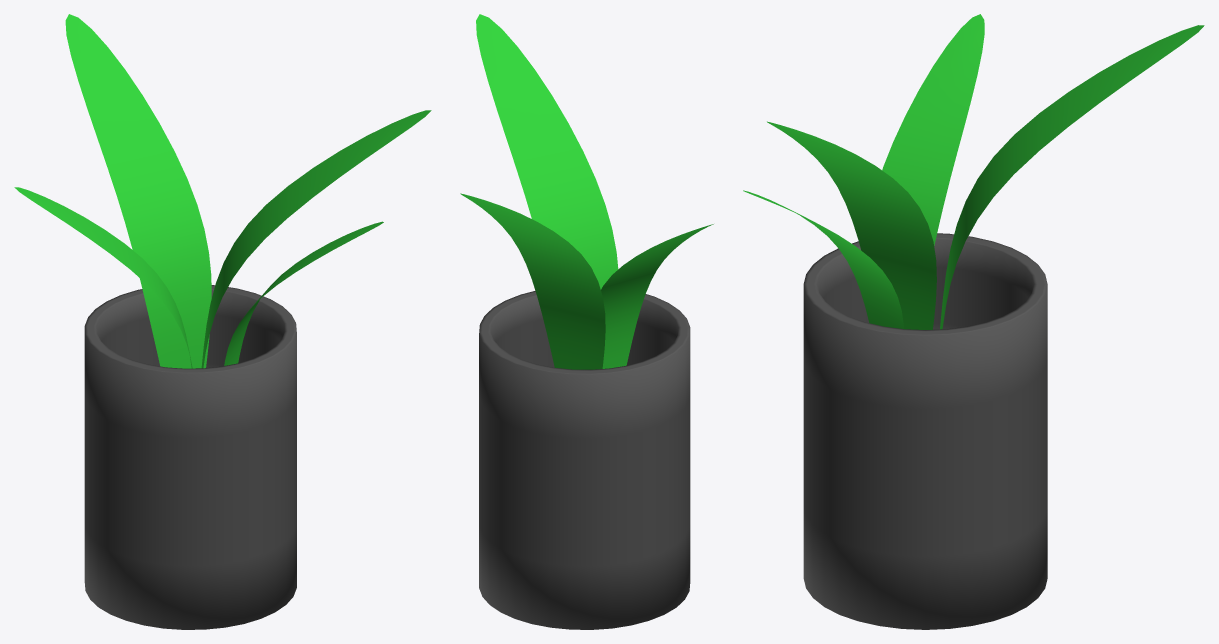
The model's file is Gorshok.fbx.
3 views of the same model, side by side, from view 1: azimuth 30°, elevation 25°; view 2: azimuth 150°, elevation 25°; view 3: azimuth 270°, elevation 25° (orthographic). The views are drawn at different scales.
Parts seen in each view (by area): view 1: Cylinder.006; view 2: Cylinder.006; view 3: Cylinder.006.
Part boxes in pixels (bbox=[...]): Cylinder.006: bbox=[14, 14, 431, 629]; Cylinder.006: bbox=[460, 14, 713, 629]; Cylinder.006: bbox=[743, 14, 1204, 629].
Bounding box in the file's own units: 160 × 226 × 171.
